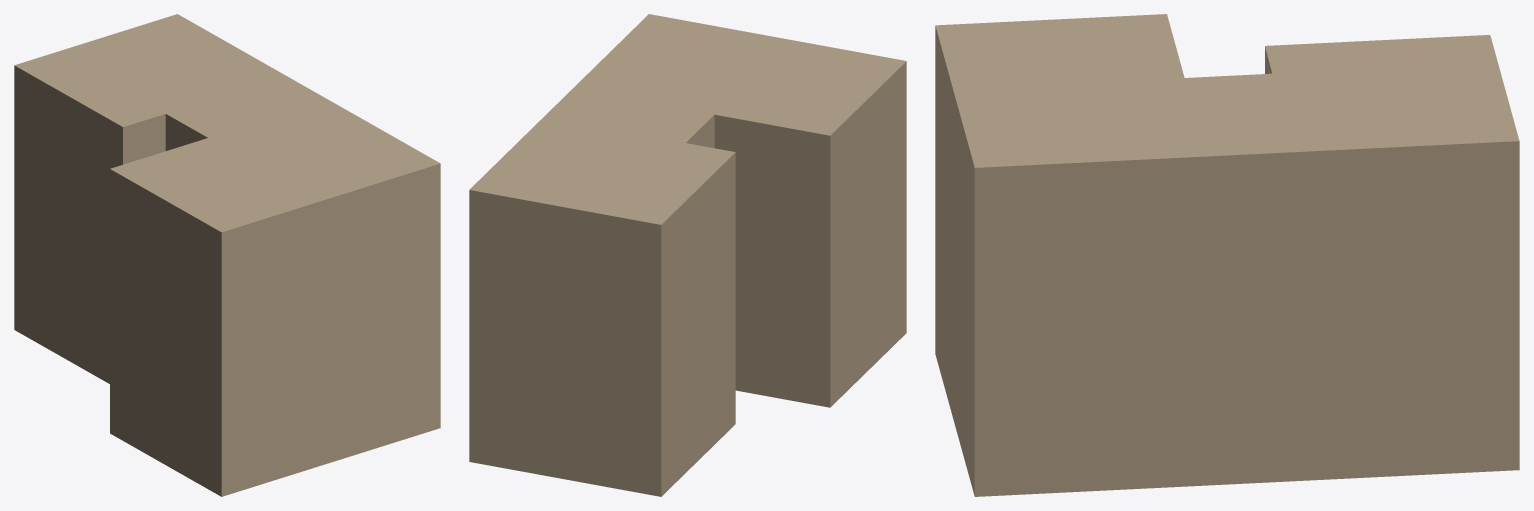
File: bld_109053855.dae
The picture shows the model from 3 angles, left to right: view 1: azimuth 30°, elevation 25°; view 2: azimuth 150°, elevation 25°; view 3: azimuth 270°, elevation 25°; orthographic projection. The views are drawn at different scales.
Visible parts, largest first — view 1: bld_109053855; view 2: bld_109053855; view 3: bld_109053855.
Boxes of the visible parts, x1,y1,x2,y2 form: bld_109053855: (14, 14, 440, 496); bld_109053855: (469, 14, 906, 496); bld_109053855: (935, 14, 1519, 496).
Size of the model in its own units: 8.03 by 12.87 by 8.
